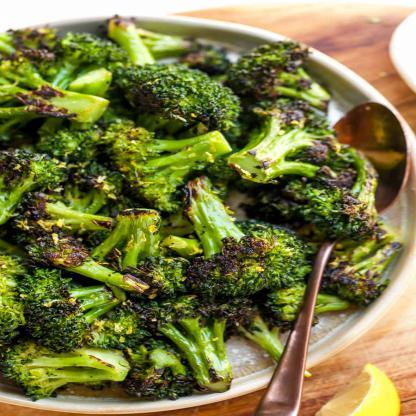broccoli: (0, 13, 400, 411)
